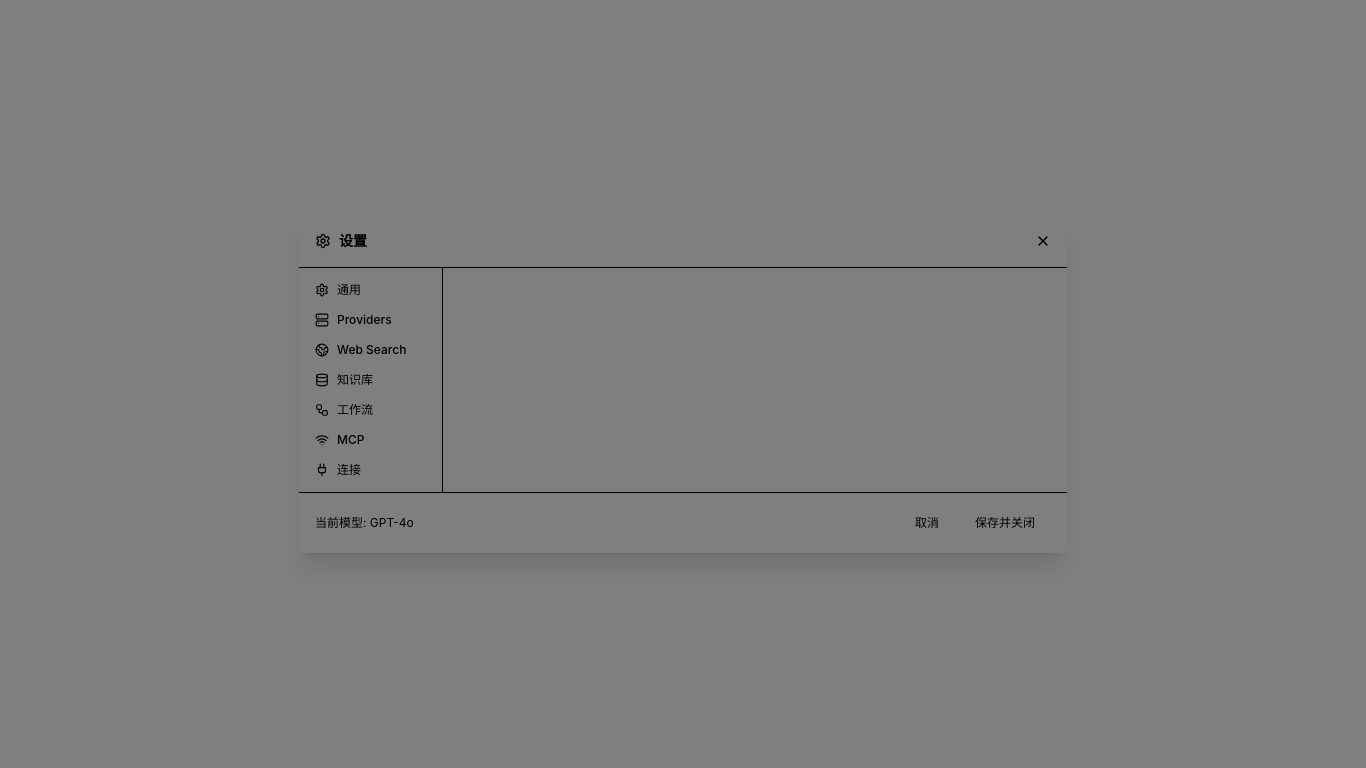
Test: SettingsModal › shows provider cards with masked API keys
Expected: the heading "设置" is shown, x1=339 y1=231 x2=367 y2=251
What coordinates should you click on to do the following:
click the button "Providers"
I would click on:
 (370, 320)
Its box is x1=307 y1=306 x2=434 y2=334.
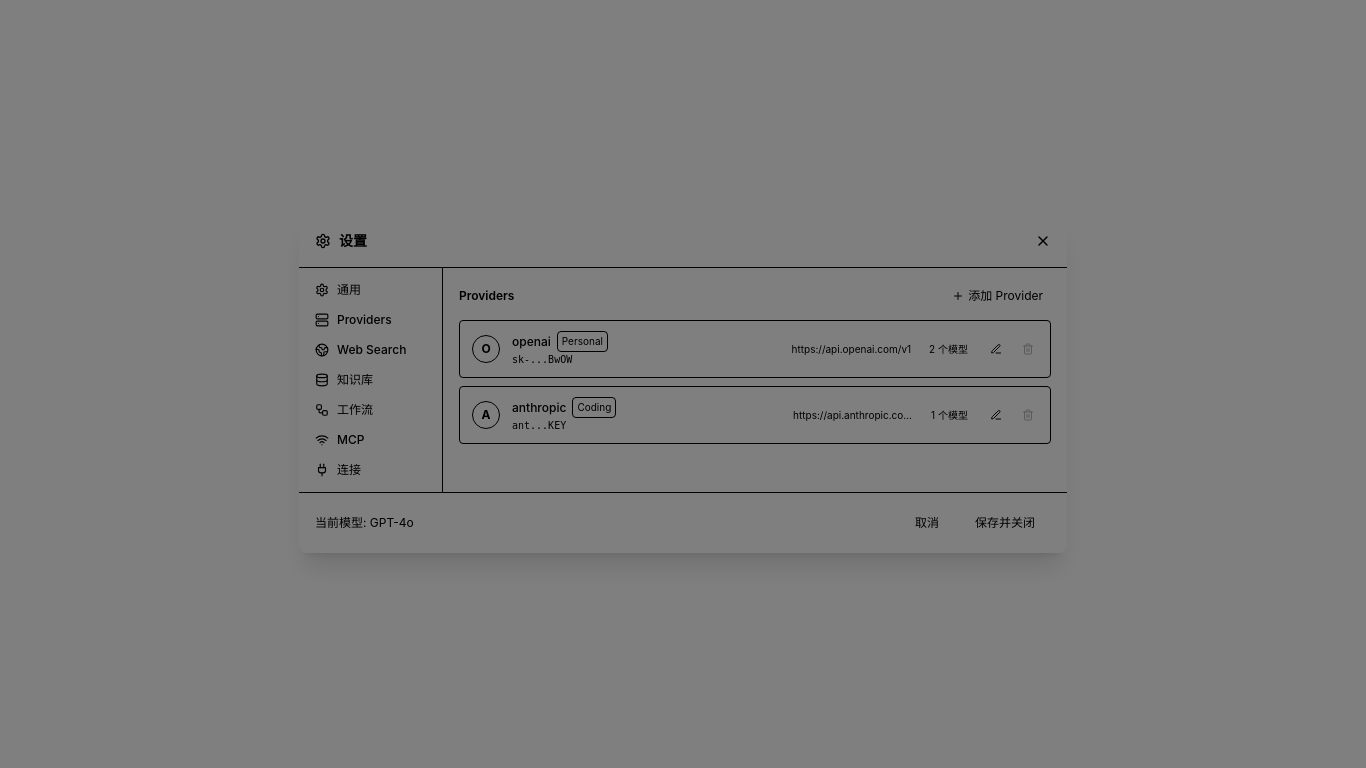
Result: the text "sk-...BwOW" is shown at x1=512 y1=354 x2=572 y2=365
